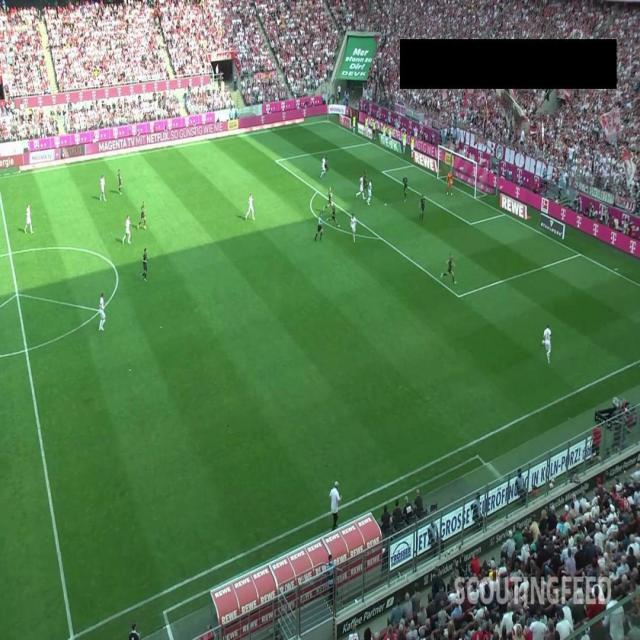ball: (541, 339, 545, 346)
goalkeeper: (447, 171, 454, 196)
player: (440, 253, 457, 286), (542, 324, 552, 365), (326, 202, 340, 228), (323, 186, 336, 214), (137, 201, 147, 231), (122, 215, 132, 245), (24, 204, 34, 234), (246, 193, 256, 221), (99, 292, 106, 331), (141, 248, 149, 282), (350, 212, 357, 244), (357, 176, 366, 200), (419, 194, 426, 222), (100, 174, 107, 202), (366, 179, 373, 206), (403, 174, 409, 203), (117, 168, 123, 195), (362, 168, 369, 191), (321, 155, 327, 179), (324, 153, 330, 175)
referee: (315, 211, 325, 242)
